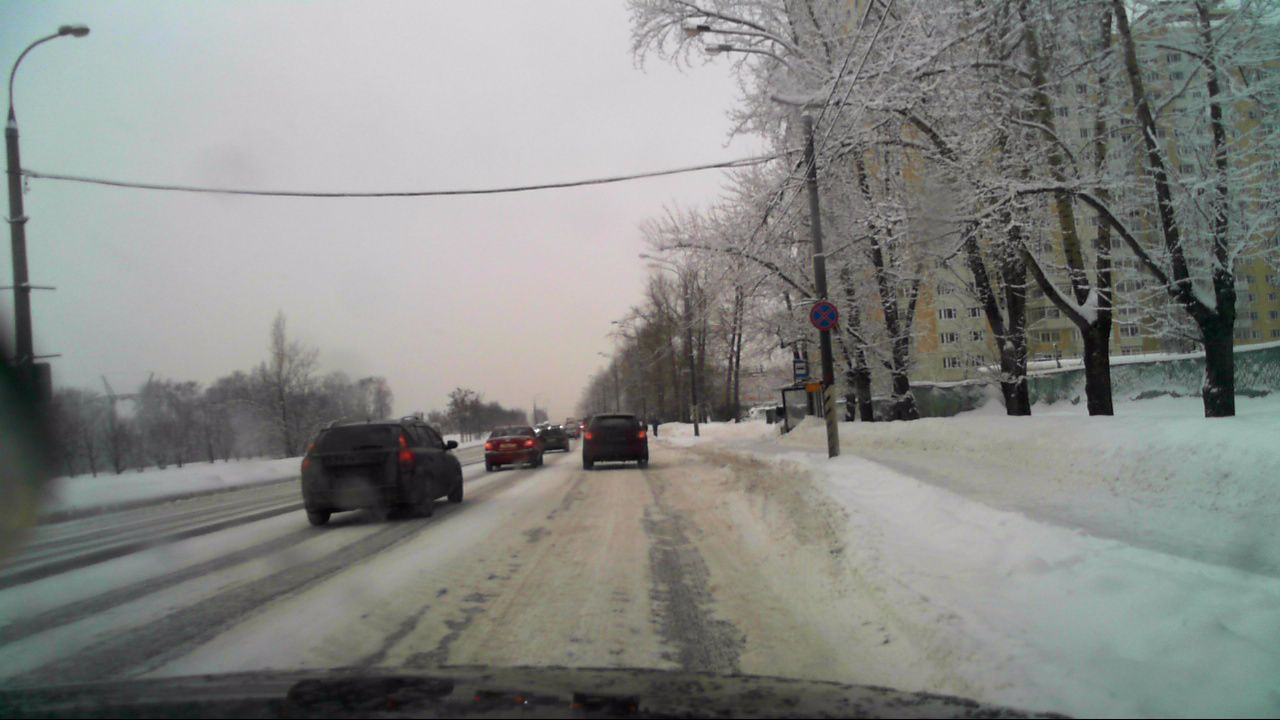No Parking: (810, 300, 839, 331)
